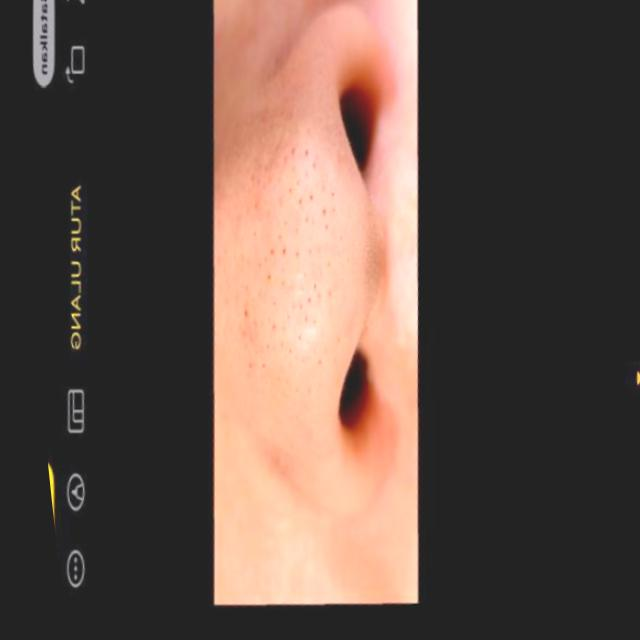blackhead: (227, 91, 341, 396)
